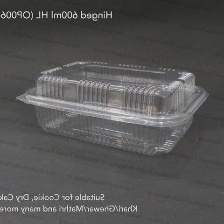plastic_box: (9, 49, 218, 164)
